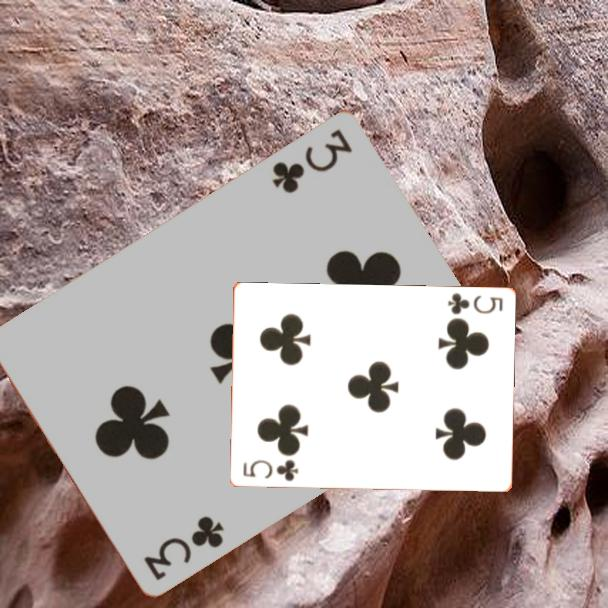c03: (268, 124, 356, 196), (140, 511, 228, 583)
c05: (239, 456, 301, 485), (444, 290, 505, 317)
